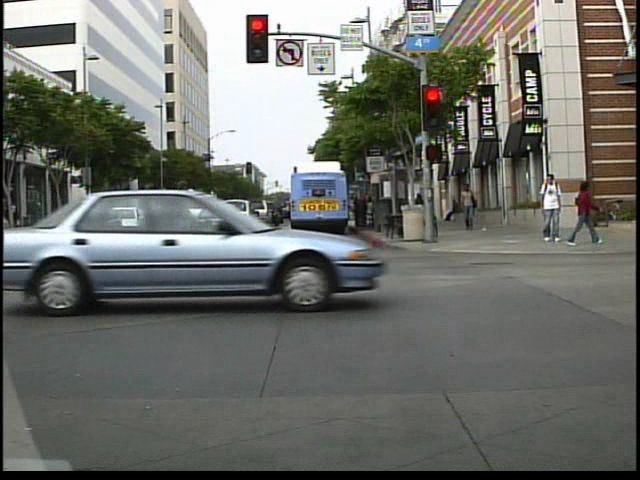person: (569, 177, 600, 248)
